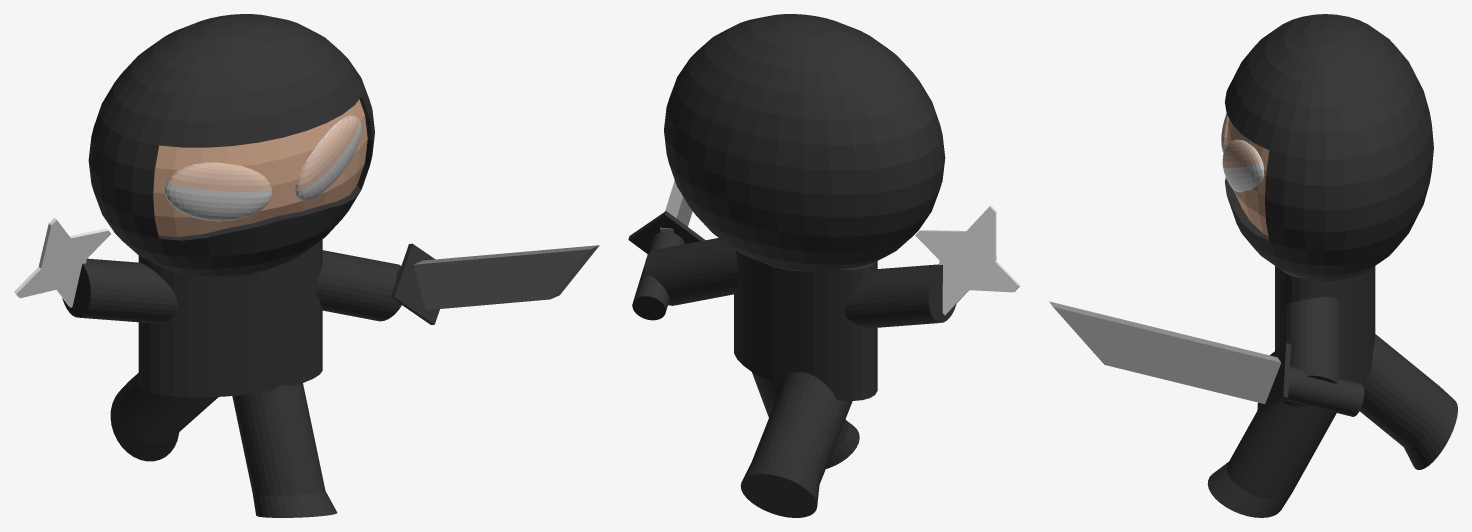
The model's file is ninja.fbx.
3 views of the same model, side by side, from view 1: azimuth 30°, elevation 25°; view 2: azimuth 150°, elevation 25°; view 3: azimuth 270°, elevation 25° (orthographic). The views are drawn at different scales.
Visible parts, largest first — view 1: Sphere, Cylinder, Cylinder.005, Cube, Cylinder.002, Sphere.001, Cylinder.004, Cylinder.003, Cube.002, Sphere.002, Cube.001; view 2: Sphere, Cylinder, Cylinder.004, Cylinder.002, Cube.002, Cylinder.003, Cylinder.001, Cylinder.005, Cube.001, Cube; view 3: Sphere, Cube, Cylinder.005, Cylinder.004, Cylinder, Cylinder.003, Cylinder.001, Sphere.002, Cube.001.
Boxes of the visible parts, x1=… form: Sphere: x1=88, y1=14, x2=374, y2=278; Cylinder: x1=138, y1=239, x2=322, y2=397; Cylinder.005: x1=232, y1=383, x2=337, y2=517; Cube: x1=413, y1=245, x2=599, y2=310; Cylinder.002: x1=62, y1=258, x2=178, y2=323; Sphere.001: x1=165, y1=162, x2=271, y2=221; Cylinder.004: x1=110, y1=373, x2=218, y2=461; Cylinder.003: x1=316, y1=250, x2=401, y2=321; Cube.002: x1=14, y1=217, x2=110, y2=307; Sphere.002: x1=295, y1=115, x2=361, y2=200; Cube.001: x1=391, y1=243, x2=439, y2=324; Sphere: x1=664, y1=14, x2=945, y2=271; Cylinder: x1=734, y1=250, x2=877, y2=400; Cylinder.004: x1=740, y1=372, x2=852, y2=517; Cylinder.002: x1=844, y1=264, x2=956, y2=328; Cube.002: x1=915, y1=205, x2=1020, y2=315; Cylinder.003: x1=644, y1=238, x2=739, y2=305; Cylinder.001: x1=632, y1=232, x2=685, y2=320; Cylinder.005: x1=752, y1=372, x2=859, y2=468; Cube.001: x1=628, y1=211, x2=705, y2=253; Cube: x1=660, y1=180, x2=692, y2=233; Sphere: x1=1224, y1=14, x2=1433, y2=280; Cube: x1=1049, y1=301, x2=1280, y2=403; Cylinder.005: x1=1207, y1=402, x2=1336, y2=517; Cylinder.004: x1=1360, y1=334, x2=1457, y2=469; Cylinder: x1=1275, y1=266, x2=1375, y2=408; Cylinder.003: x1=1282, y1=297, x2=1340, y2=406; Cylinder.001: x1=1285, y1=366, x2=1364, y2=416; Sphere.002: x1=1222, y1=139, x2=1264, y2=192; Cube.001: x1=1257, y1=343, x2=1290, y2=417.
Bounding box in the file's own units: 383 × 392 × 312.
